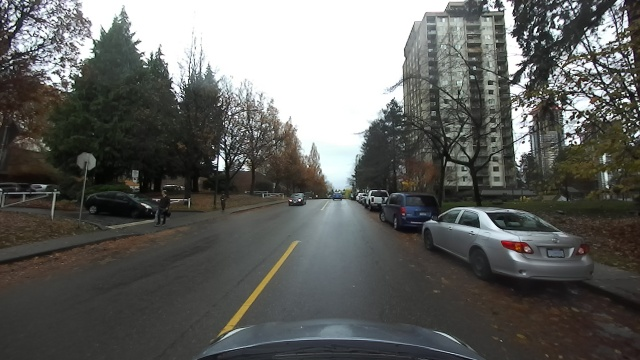car: (420, 208, 594, 289), (378, 190, 443, 234), (84, 189, 152, 221), (363, 186, 391, 212), (285, 190, 308, 208), (328, 191, 345, 203)
